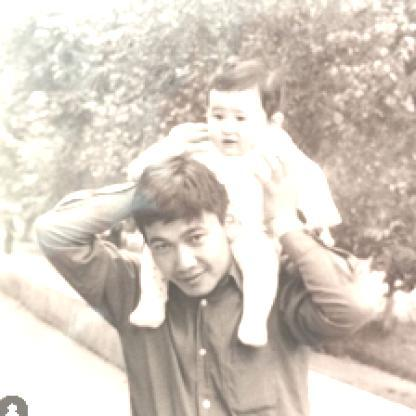child: (128, 58, 342, 350)
